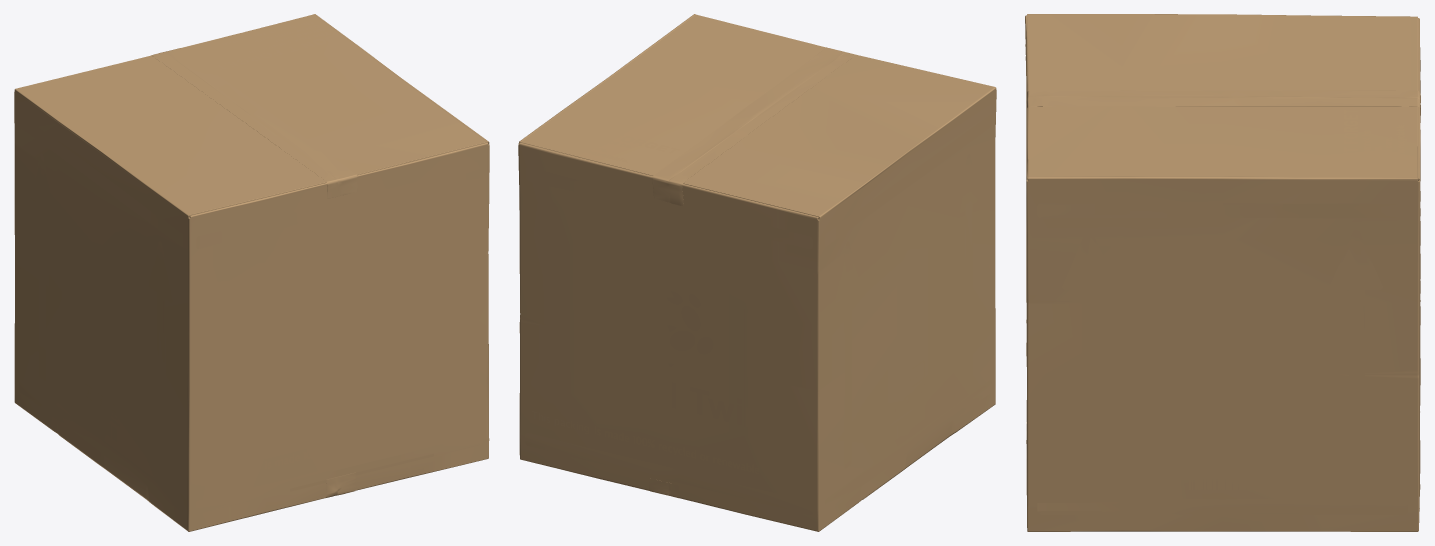
The model's file is box_corrugated_brown_b07.glb.
3 views of the same model, side by side, from view 1: azimuth 30°, elevation 25°; view 2: azimuth 150°, elevation 25°; view 3: azimuth 270°, elevation 25° (orthographic). The views are drawn at different scales.
Size of the model in its own units: 0.2508 by 0.2521 by 0.2541.
